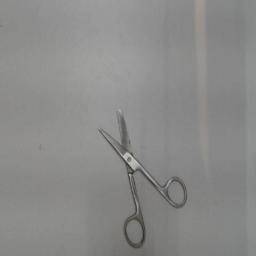Dressing Scissors: (95, 102, 193, 252)
